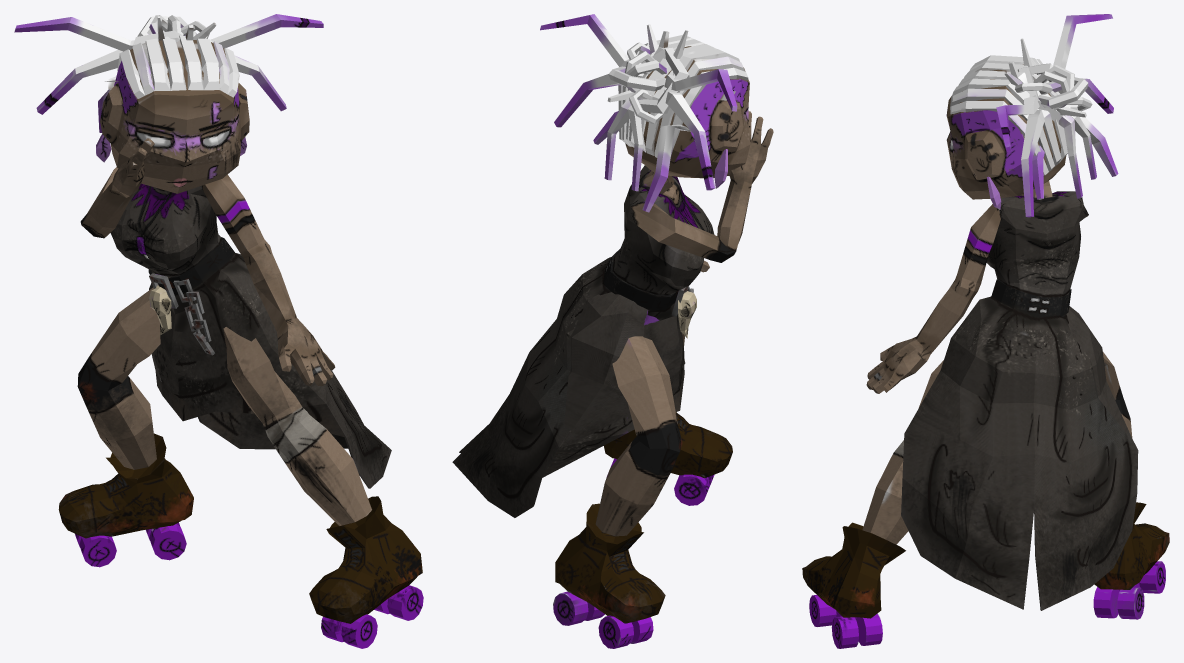
The model's file is bruja_000075.obj.
The picture shows the model from 3 angles, left to right: view 1: azimuth 30°, elevation 25°; view 2: azimuth 150°, elevation 25°; view 3: azimuth 270°, elevation 25°; orthographic projection. The views are drawn at different scales.
Visible parts, largest first — view 1: Bruja_Plane.001; view 2: Bruja_Plane.001; view 3: Bruja_Plane.001.
Boxes of the visible parts, <box> form: Bruja_Plane.001: <box>14,14,423,648</box>; Bruja_Plane.001: <box>452,14,773,648</box>; Bruja_Plane.001: <box>802,14,1169,648</box>.
Size of the model in its own units: 9.11 by 15.42 by 9.25.
